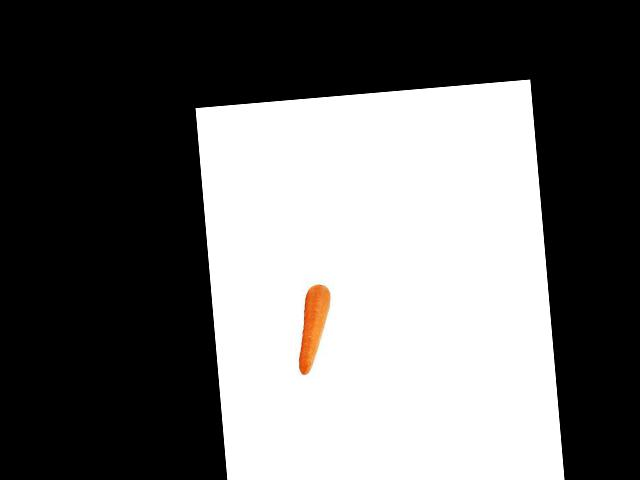carrot: (288, 281, 338, 381)
